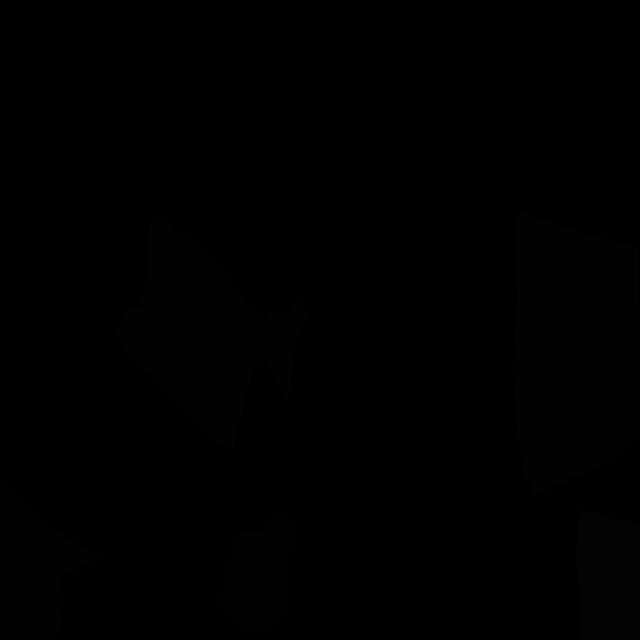cardboard: (512, 211, 640, 495), (118, 212, 263, 449), (0, 481, 100, 640), (246, 301, 306, 406)
metal: (576, 509, 640, 640)
rigid_plastic: (219, 513, 298, 633)
